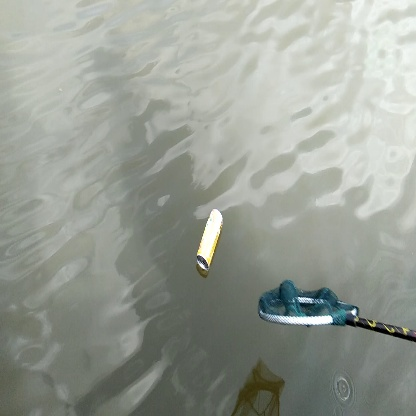bottle: (189, 207, 229, 274)
